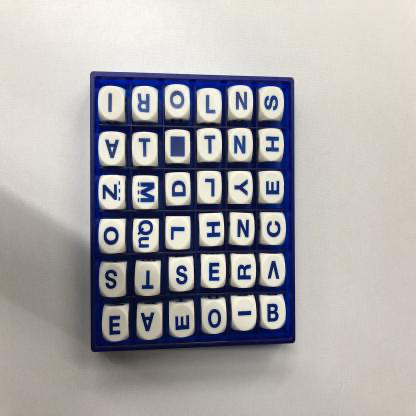a: (100, 133, 126, 167), (137, 307, 163, 341)
b: (261, 297, 286, 330)
c: (262, 213, 287, 246)
d: (166, 173, 192, 207)
e: (103, 308, 130, 342), (170, 305, 196, 338), (260, 172, 285, 205), (202, 256, 226, 289)
h: (199, 213, 225, 248), (260, 129, 284, 163)
i: (99, 87, 126, 122), (232, 298, 258, 331)
l: (166, 216, 192, 251), (198, 89, 223, 123), (198, 173, 222, 206)
m: (133, 177, 160, 211)
n: (228, 129, 254, 164), (229, 87, 254, 120), (231, 212, 255, 246)
o: (99, 219, 125, 254), (201, 301, 228, 334), (166, 86, 191, 118)
qu: (133, 219, 160, 253)
r: (133, 88, 159, 121)
s: (100, 263, 128, 297), (169, 258, 195, 292), (260, 88, 285, 120)
t: (136, 262, 162, 297), (133, 134, 159, 167), (197, 129, 223, 162), (233, 255, 257, 289)
v: (262, 255, 286, 287)
wild: (166, 132, 191, 165)
y: (228, 172, 254, 205)
z: (99, 176, 126, 209)
